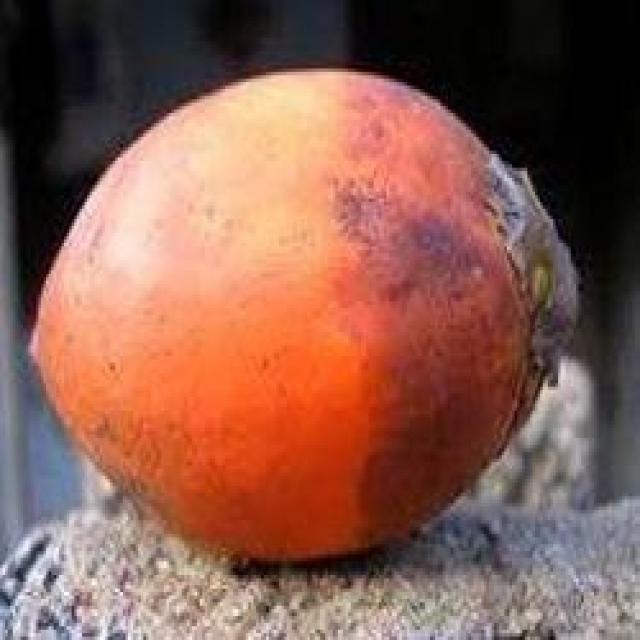good: (28, 68, 581, 568)
